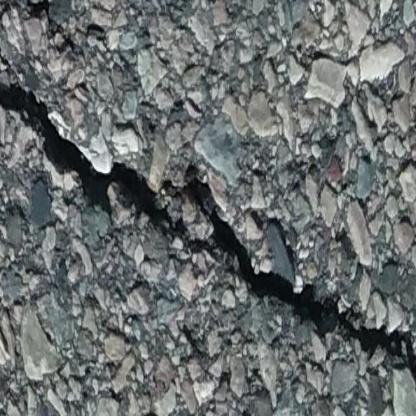Cracks: (0, 64, 416, 396), (0, 0, 73, 51), (252, 209, 296, 274)
